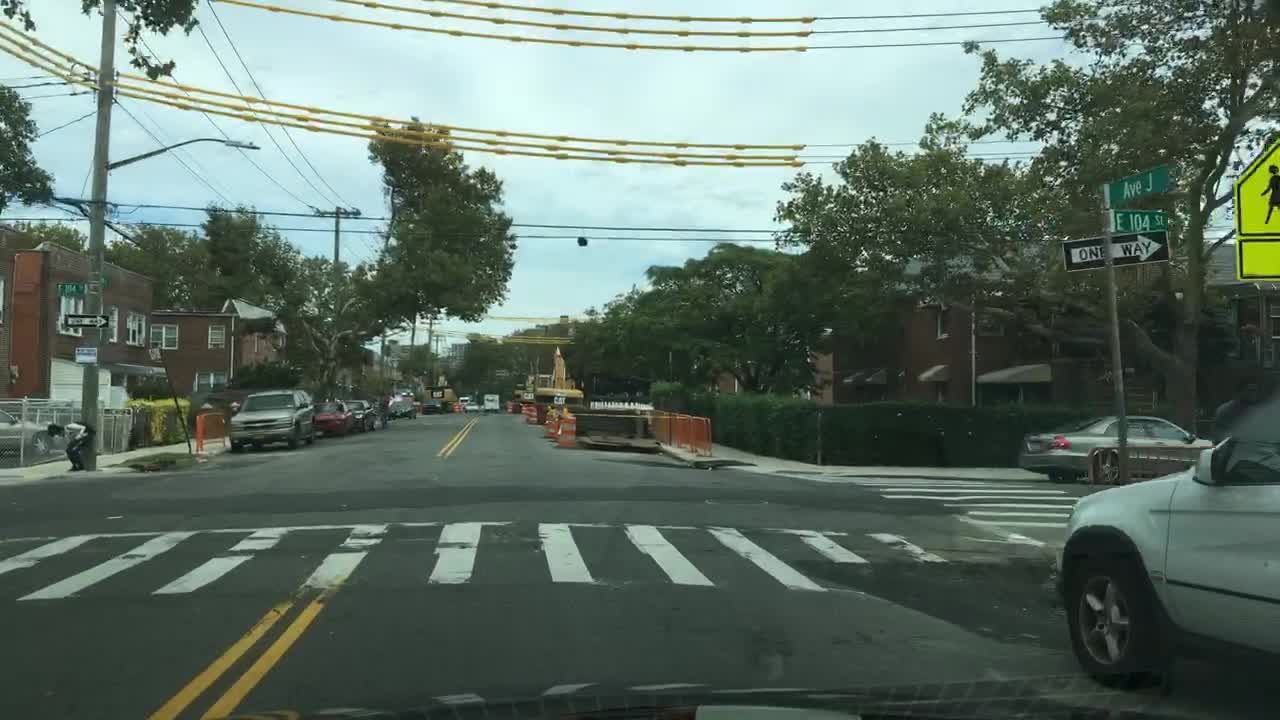car: (1059, 383, 1279, 686), (1019, 413, 1217, 484), (225, 392, 313, 451), (313, 398, 349, 437), (346, 400, 377, 433), (371, 398, 389, 426), (391, 399, 415, 419), (425, 403, 451, 416), (466, 402, 481, 412), (457, 396, 467, 404)
person: (43, 421, 93, 470)
traffic sign: (1064, 229, 1170, 268), (1236, 139, 1279, 233), (1099, 162, 1174, 206), (1237, 237, 1279, 284), (1115, 211, 1169, 231), (65, 309, 109, 328), (54, 279, 89, 299), (72, 346, 98, 363)
truck: (519, 370, 580, 408), (484, 393, 498, 413)
